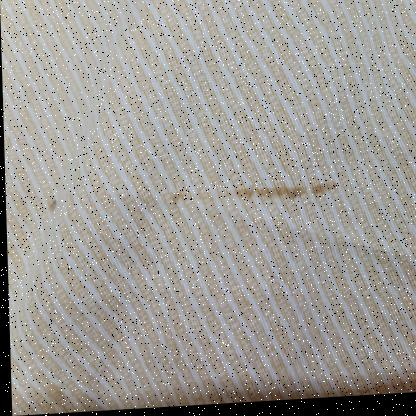spot: (89, 179, 343, 218), (44, 193, 61, 218)
